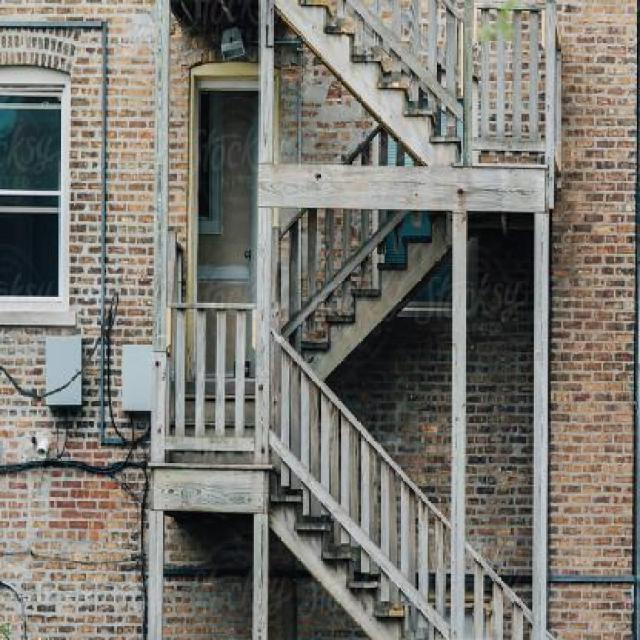stair: (146, 243, 614, 640), (219, 1, 541, 204)
